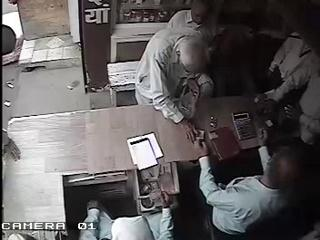Normal: (194, 137, 304, 240), (134, 28, 214, 144), (78, 172, 176, 240)
